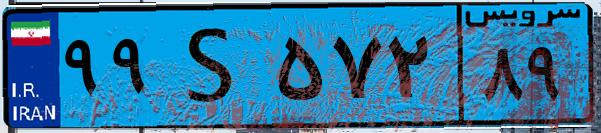2: (385, 28, 445, 110)
5: (270, 28, 330, 110)
7: (330, 28, 385, 110)
8: (475, 38, 525, 113)
9: (57, 26, 110, 100), (525, 38, 570, 115), (110, 28, 158, 98)
S: (158, 12, 270, 120)
